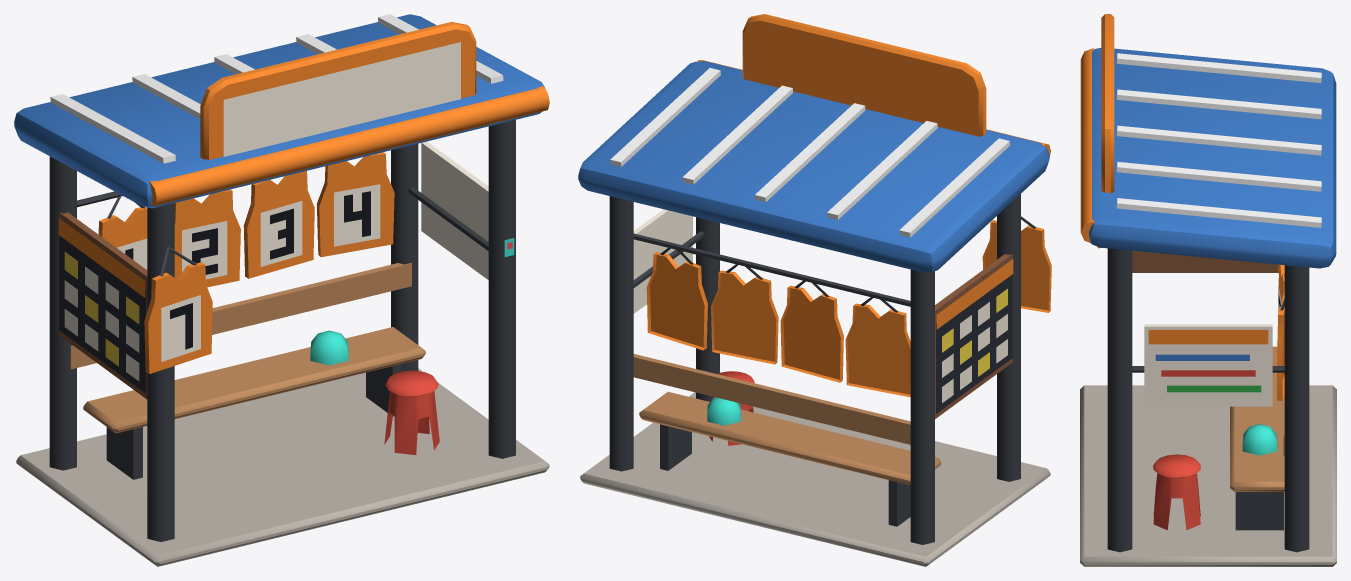
File: prop_win_stand.glb
The picture shows the model from 3 angles, left to right: view 1: azimuth 30°, elevation 25°; view 2: azimuth 150°, elevation 25°; view 3: azimuth 270°, elevation 25°; orthographic projection. The views are drawn at different scales.
Visible parts, largest first — view 1: body, sign_face; view 2: body; view 3: body.
Boxes of the visible parts, x1,y1,x2,y2 form: body: (14,14,549,566); sign_face: (223,42,460,156); body: (578,14,1051,566); body: (1080,14,1336,566).
Size of the model in its own units: 3 by 3.22 by 1.8.
